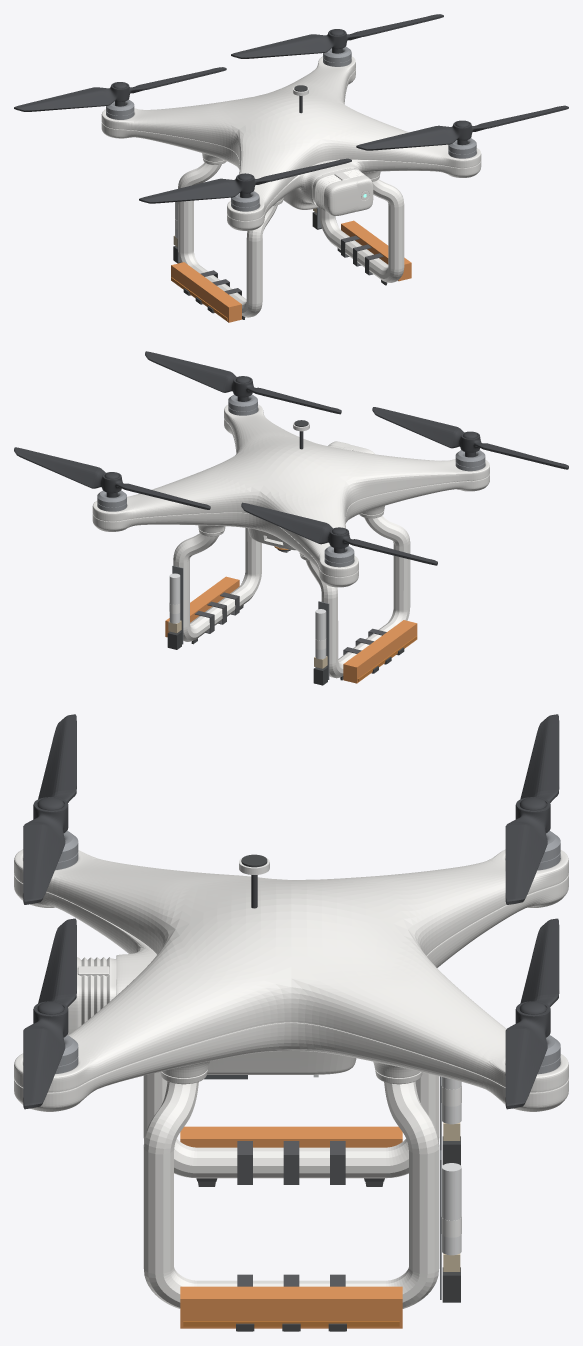
The model's file is ark1.glb.
The picture shows the model from 3 angles, top to bottom: view 1: azimuth 30°, elevation 25°; view 2: azimuth 150°, elevation 25°; view 3: azimuth 270°, elevation 25°; orthographic projection. The views are drawn at different scales.
Parts seen in each view (by area): view 1: shell, cordura, prop_1, prop_2, prop_3, prop_4, pod, web; view 2: shell, cordura, prop_2, prop_4, prop_3, prop_1, pod, cyl, web, black, anod; view 3: shell, cordura, prop_1, prop_2, prop_4, prop_3, web, pod, cyl, black, cordDark, white.
Boxes of the visible parts, left/top/right/bottom form: shell: left=101, top=56, right=481, bottom=317; cordura: left=171, top=220, right=411, bottom=322; prop_1: left=14, top=67, right=226, bottom=111; prop_2: left=231, top=14, right=443, bottom=58; prop_3: left=139, top=158, right=351, bottom=203; prop_4: left=356, top=105, right=568, bottom=150; pod: left=106, top=46, right=476, bottom=211; web: left=189, top=235, right=383, bottom=313; shell: left=92, top=404, right=489, bottom=678; cordura: left=165, top=576, right=417, bottom=683; prop_2: left=14, top=447, right=210, bottom=509; prop_4: left=145, top=351, right=341, bottom=414; prop_3: left=372, top=407, right=568, bottom=469; prop_1: left=241, top=502, right=437, bottom=565; pod: left=97, top=394, right=485, bottom=567; cyl: left=169, top=573, right=326, bottom=659; web: left=195, top=592, right=398, bottom=673; black: left=167, top=420, right=404, bottom=685; anod: left=172, top=547, right=329, bottom=679; shell: left=14, top=849, right=568, bottom=1308; cordura: left=180, top=1126, right=402, bottom=1328; prop_1: left=505, top=714, right=559, bottom=904; prop_2: left=505, top=918, right=559, bottom=1109; prop_4: left=23, top=918, right=76, bottom=1109; prop_3: left=23, top=714, right=76, bottom=904; web: left=237, top=1141, right=345, bottom=1331; pod: left=55, top=830, right=560, bottom=1074; cyl: left=442, top=1077, right=461, bottom=1255; black: left=236, top=854, right=460, bottom=1331; cordDark: left=183, top=1321, right=399, bottom=1326; white: left=239, top=857, right=461, bottom=1237.
Bounding box in the file's own units: 1.5 × 0.7021 × 0.8983.
